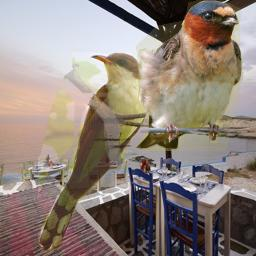Cuckoo: (38, 52, 149, 254)
Swallow: (135, 0, 245, 151)
